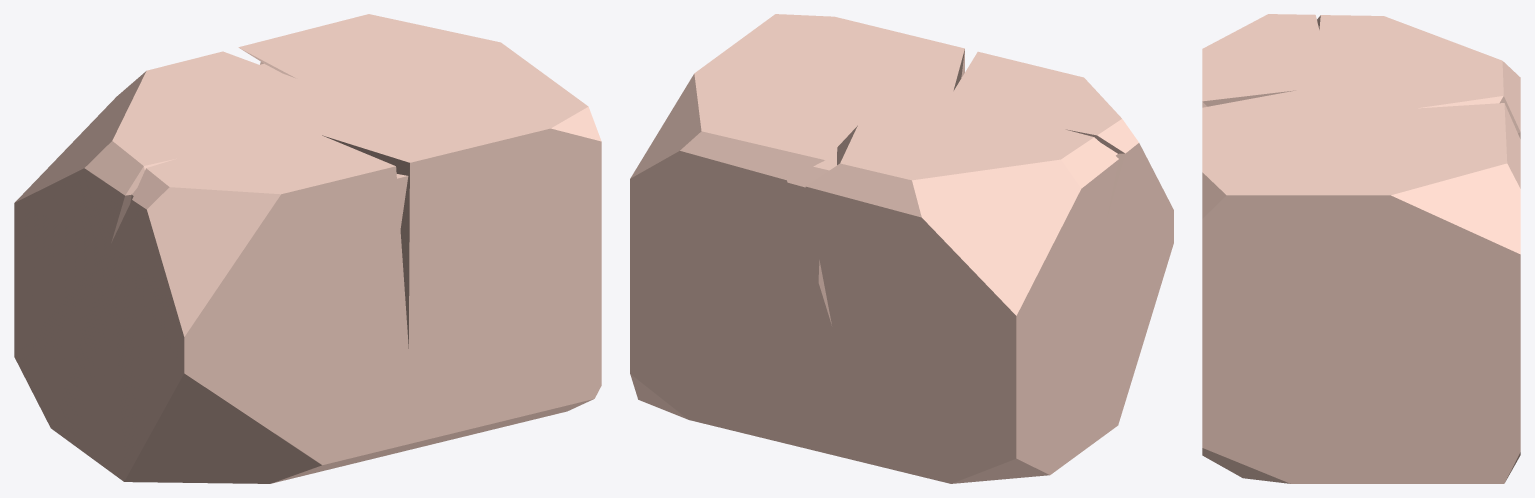
Rendered from Stone 8.fbx.
3 views of the same model, side by side, from view 1: azimuth 30°, elevation 25°; view 2: azimuth 150°, elevation 25°; view 3: azimuth 270°, elevation 25° (orthographic). The views are drawn at different scales.
Visible parts, largest first — view 1: Stone 8; view 2: Stone 8; view 3: Stone 8.
Boxes of the visible parts, box(x1,y1,x2,y2) form: Stone 8: box(14, 14, 601, 483); Stone 8: box(630, 14, 1173, 483); Stone 8: box(1202, 14, 1520, 483).
Size of the model in its own units: 283 by 200 by 200.
